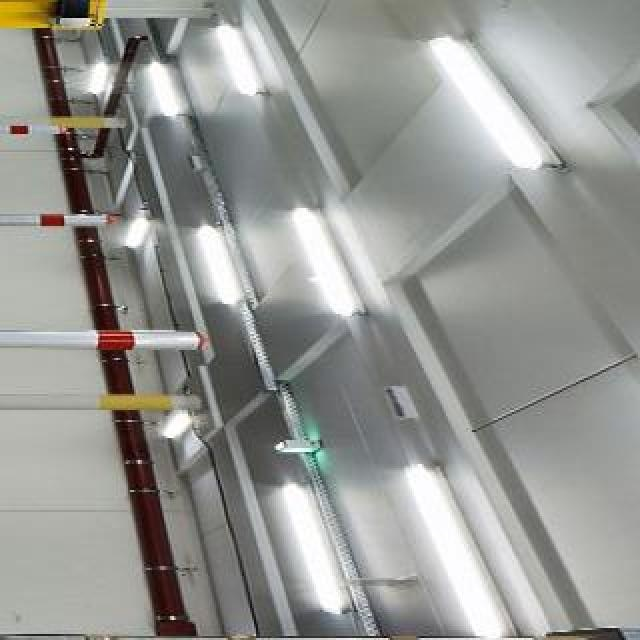fluorescent tube: (395, 13, 557, 189), (385, 435, 522, 638), (264, 177, 376, 335), (266, 460, 349, 638), (200, 13, 273, 129), (193, 216, 262, 331), (131, 51, 207, 140)
